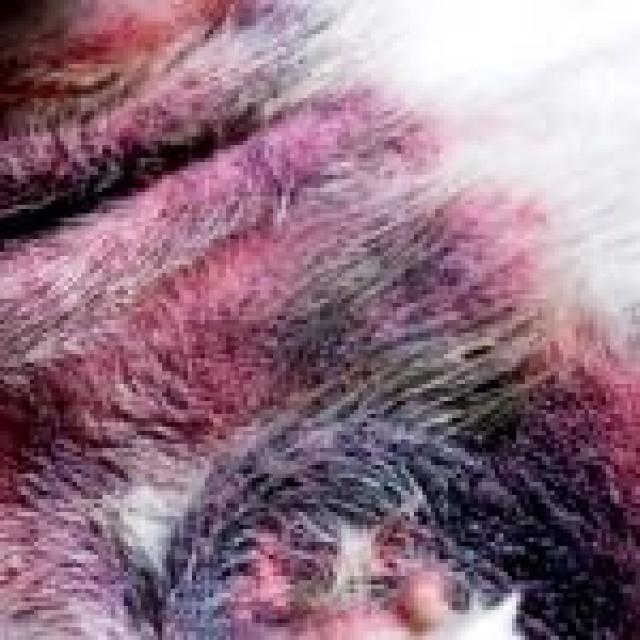fungal infection: (4, 78, 595, 640)
